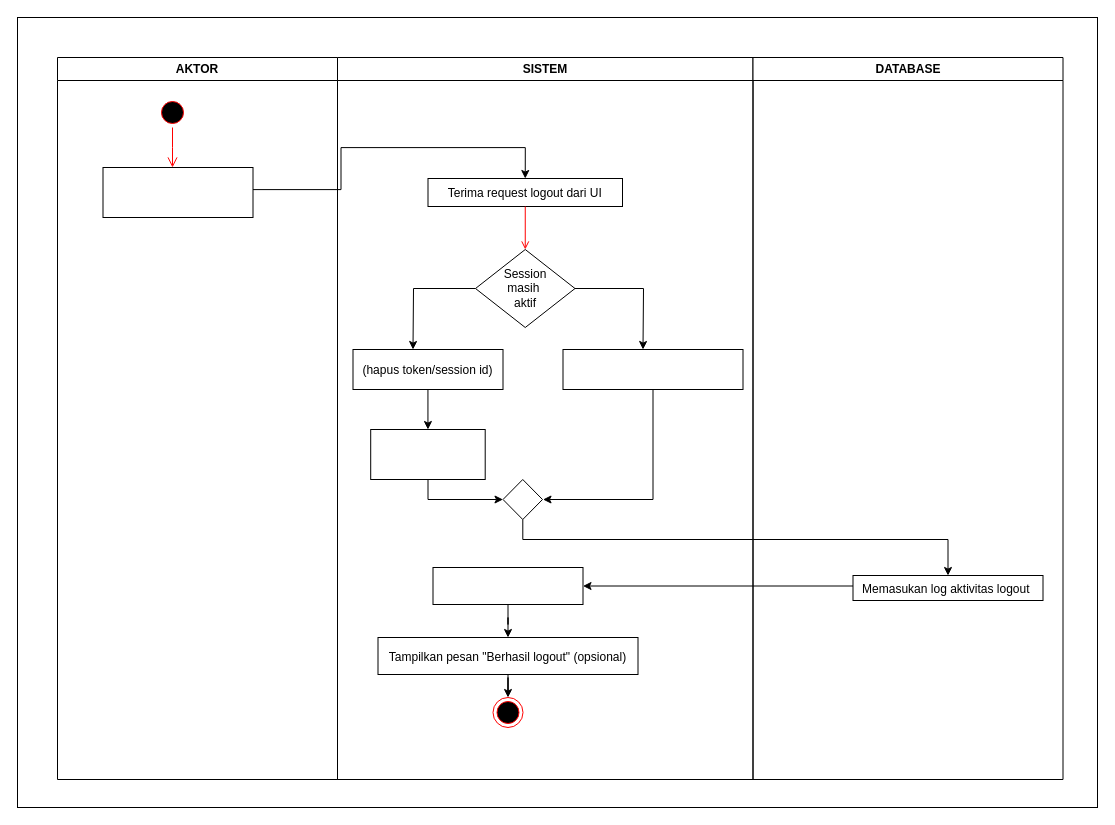
The diagram is 1115 pixels wide and 825 high, and some of its shapes have lost their labels. The centre of each missing label's shape, as x and y in pixels:
Bersihkan data auntentikasi di aplikasi: pixel 427 454
Redirect ke halaman Login: pixel 507 585
Session sudah tidak ada/expired: pixel 652 369
User klik tombol/menu "Logout": pixel 177 192
